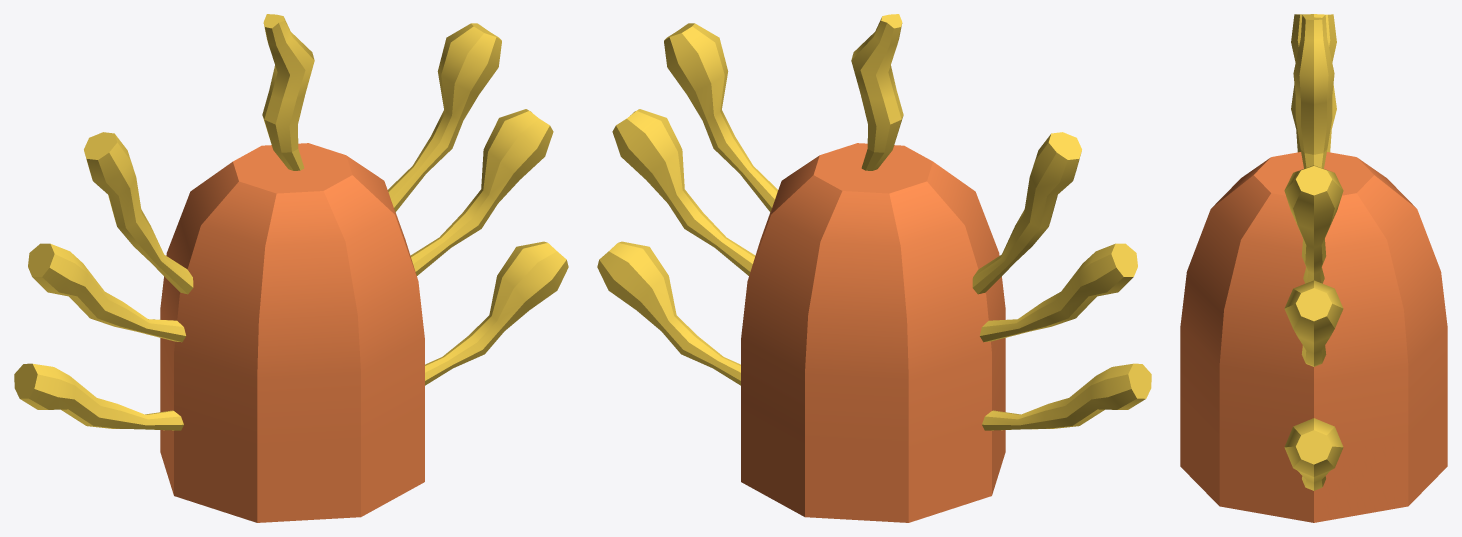
The model's file is SeaAnome.fbx.
The picture shows the model from 3 angles, left to right: view 1: azimuth 30°, elevation 25°; view 2: azimuth 150°, elevation 25°; view 3: azimuth 270°, elevation 25°; orthographic projection. The views are drawn at different scales.
Visible parts, largest first — view 1: SeaAnome; view 2: SeaAnome; view 3: SeaAnome.
Boxes of the visible parts, box(x1,y1,x2,y2) form: SeaAnome: box(14, 14, 568, 522); SeaAnome: box(597, 14, 1151, 522); SeaAnome: box(1180, 14, 1447, 522).
Size of the model in its own units: 277 by 220 by 121.
